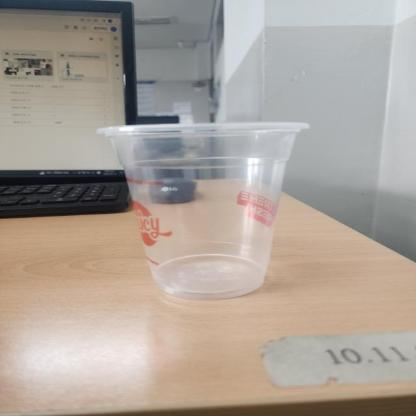Plastic Cup: (96, 121, 312, 299)
